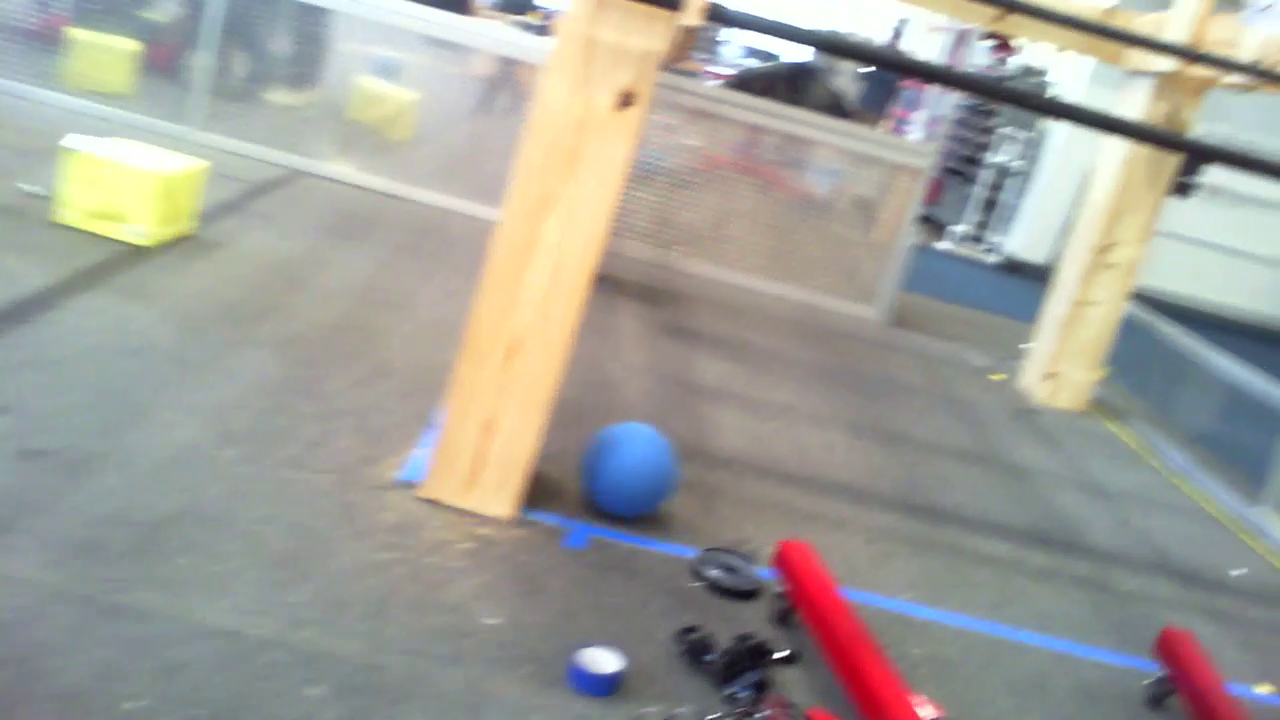blue_cargo: (588, 414, 676, 514)
